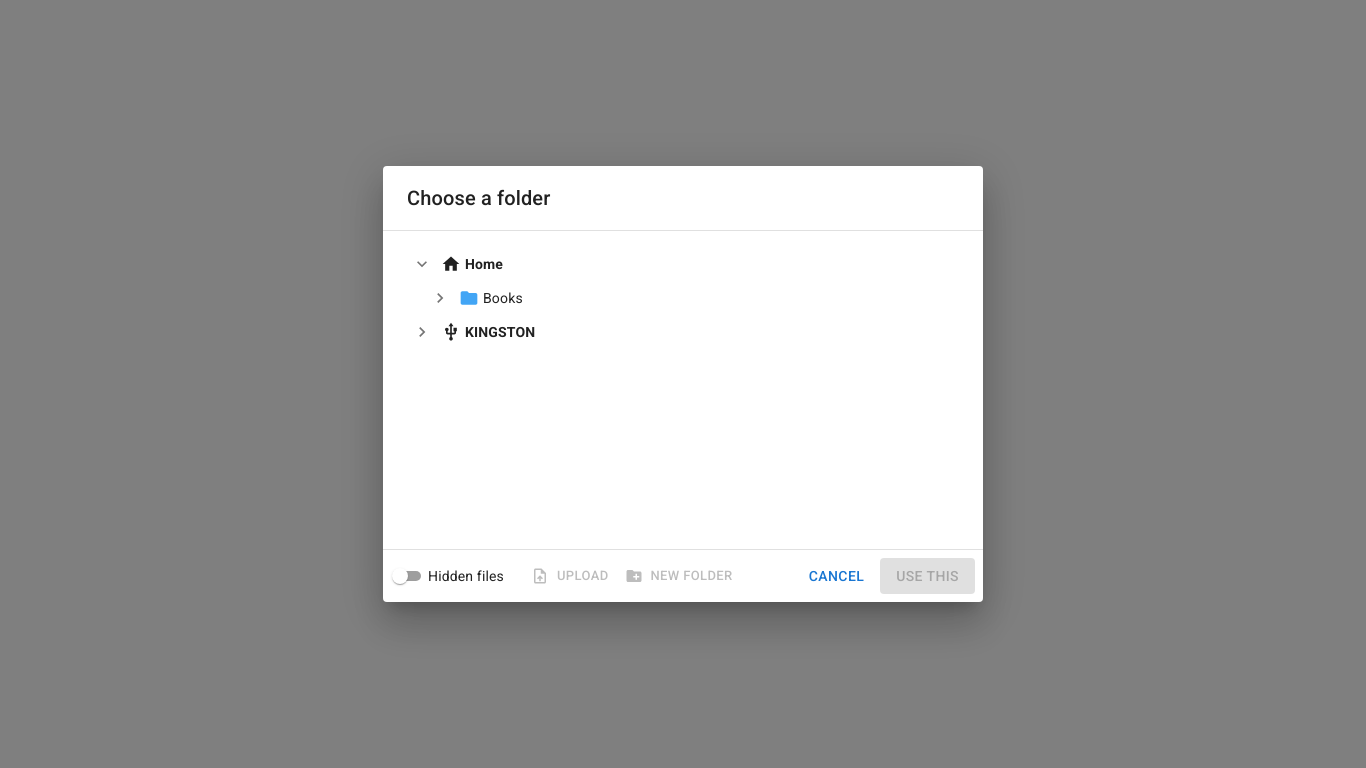
Test: making a folder › says what the device said when it refuses
The image size is (1366, 768).
Click the text "Books": x=503, y=298 483,288 -> 523,308
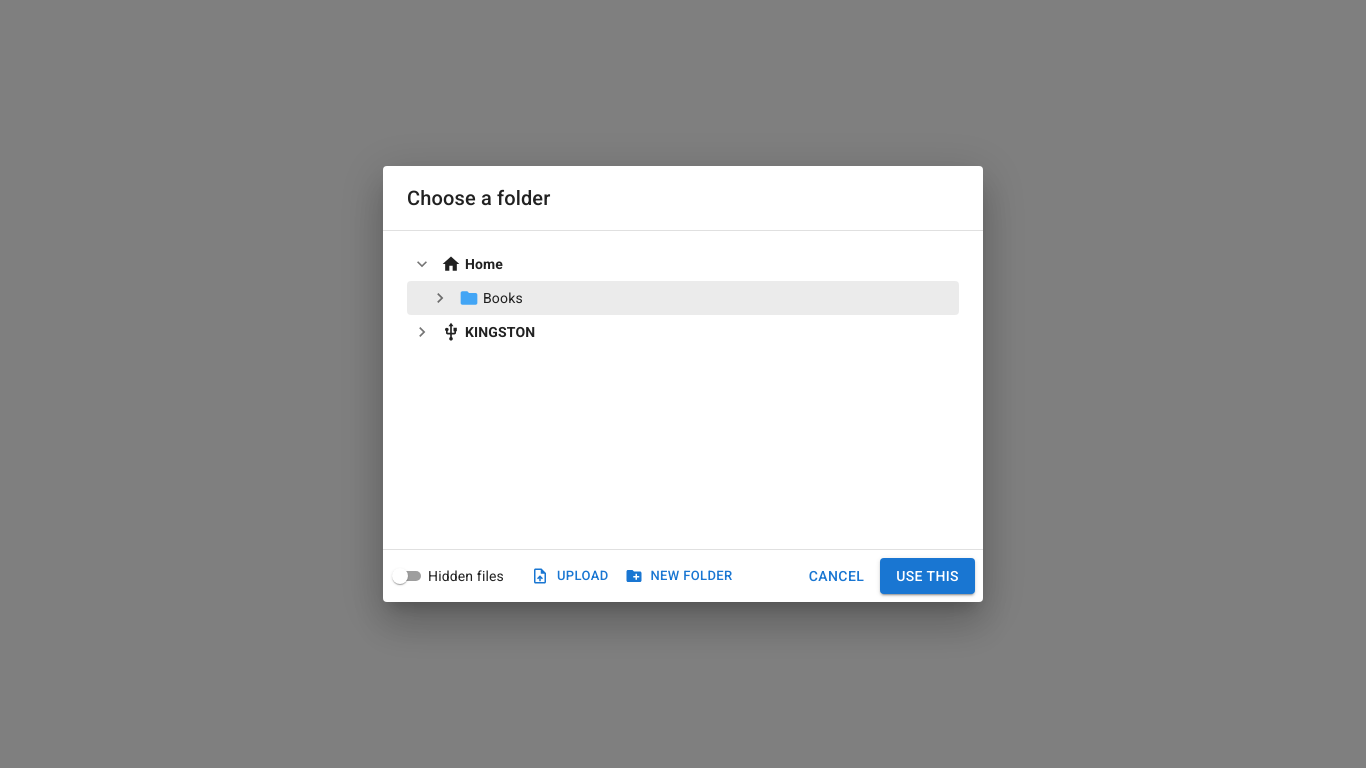
Click the button "New folder": x=680, y=576 622,561 -> 738,591
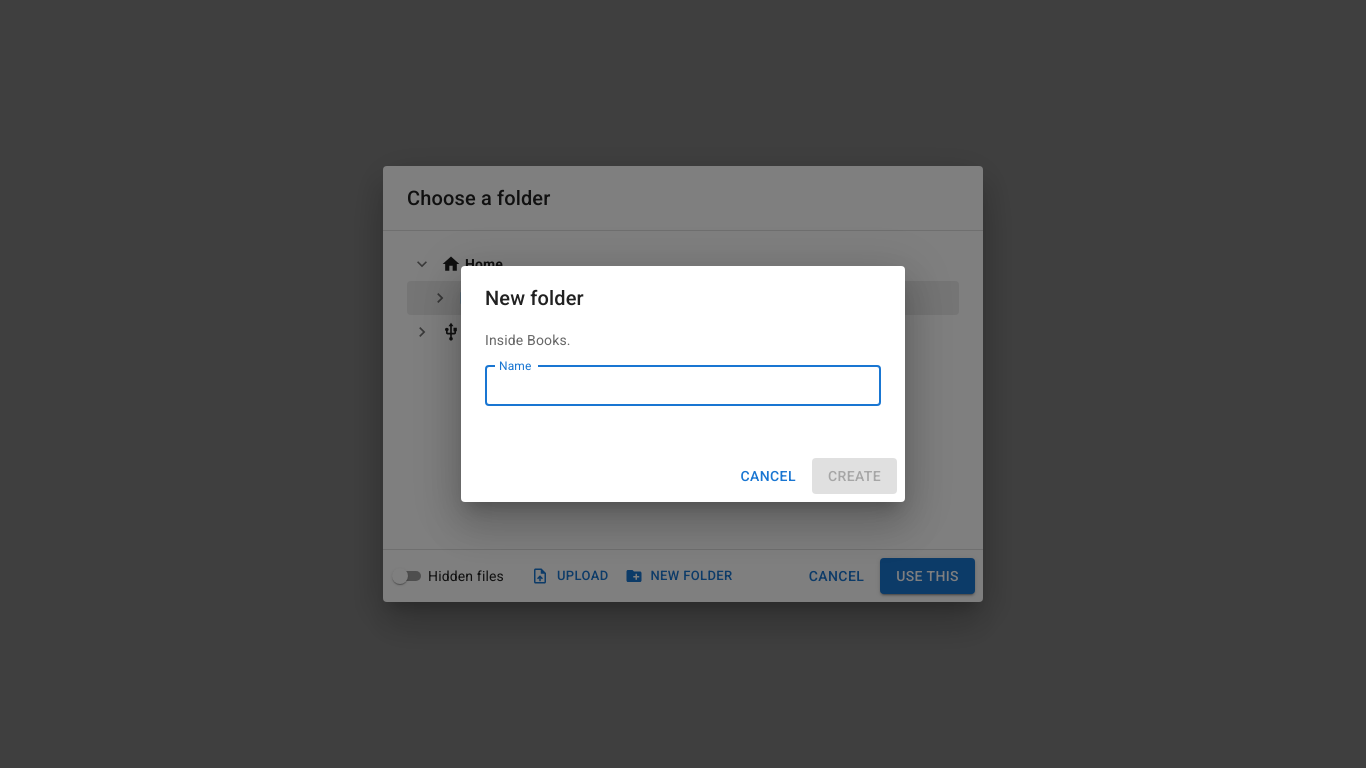
In the field labelled "Name": x=683, y=386 485,366 -> 881,406, type "Comics"
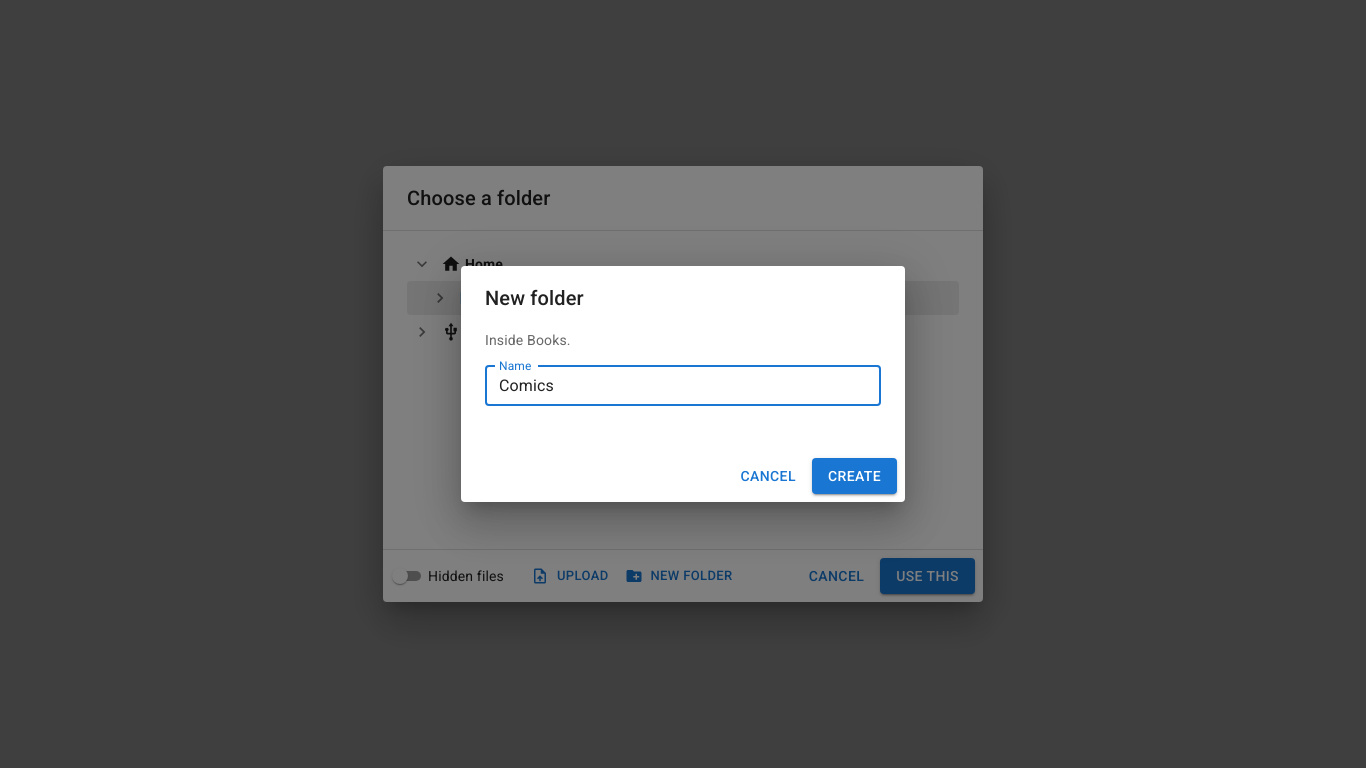
Click the button "Create": x=854, y=476 812,458 -> 897,494
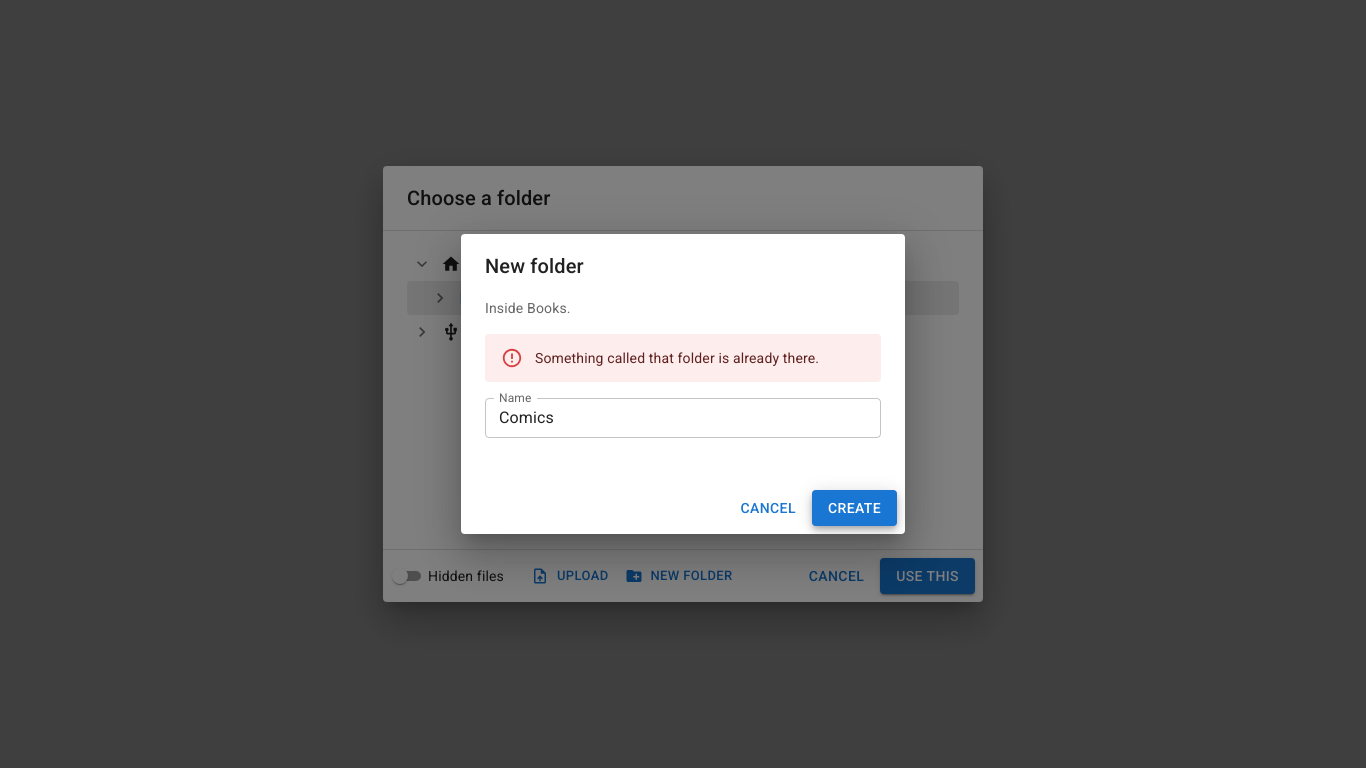
Check: the text "Something called that folder is already there." is shown, box 535,350 -> 819,366
